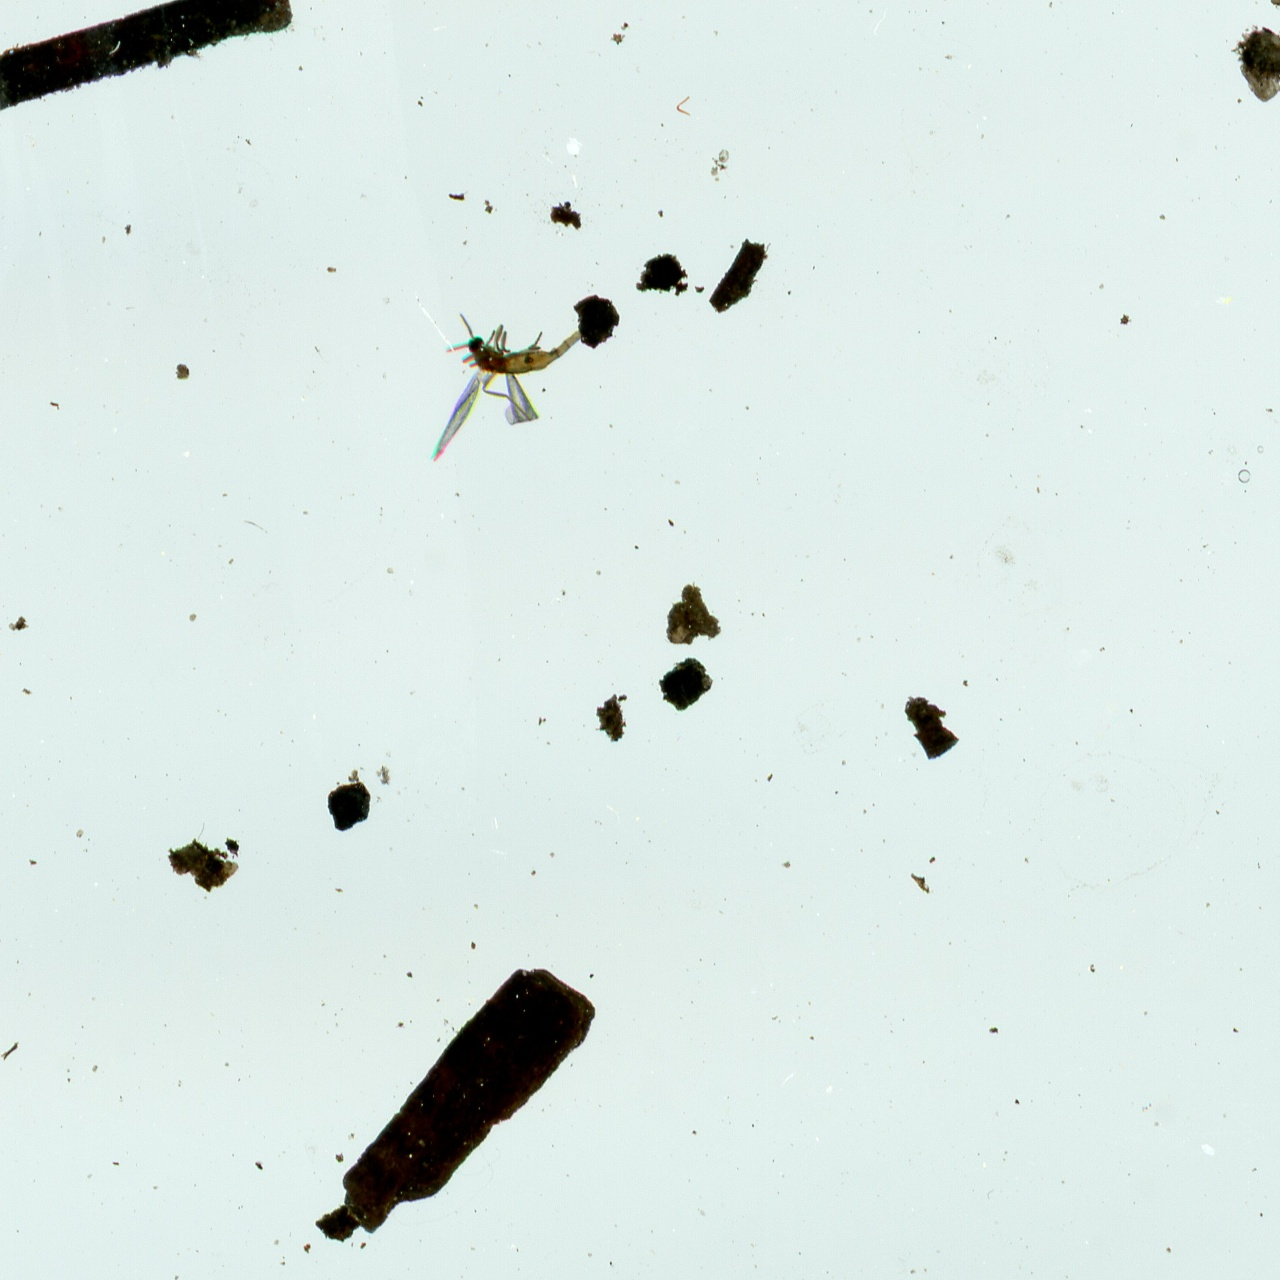arthropod: (420, 305, 580, 462)
